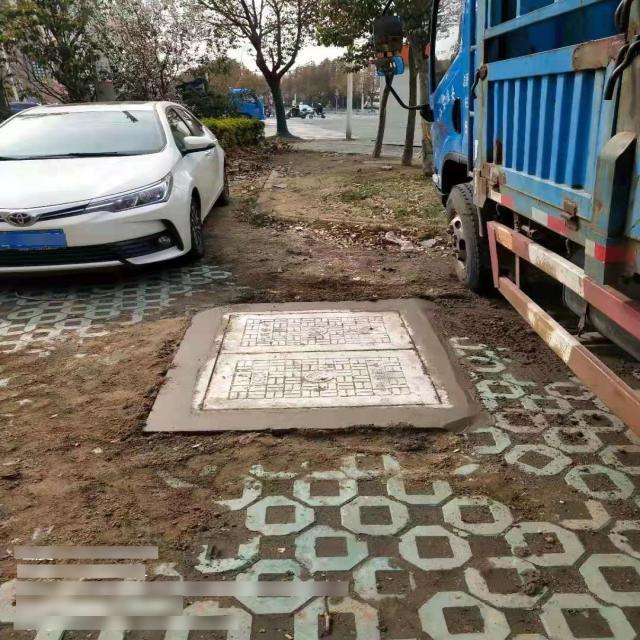Good: (193, 307, 453, 411)
